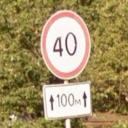speed_limit_40: (39, 8, 93, 80)
